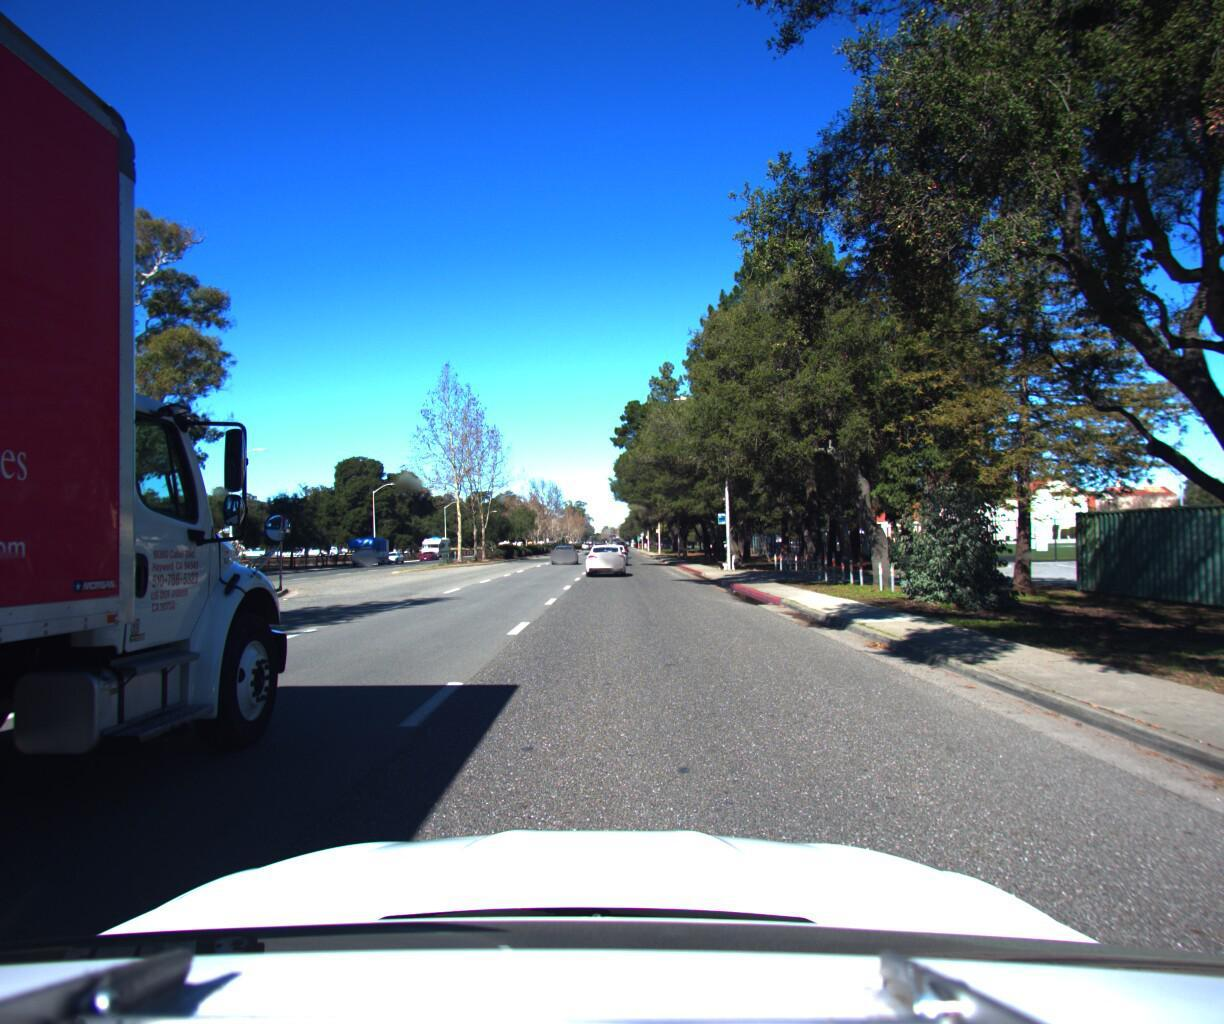car: (582, 536, 628, 570), (547, 534, 578, 556)
